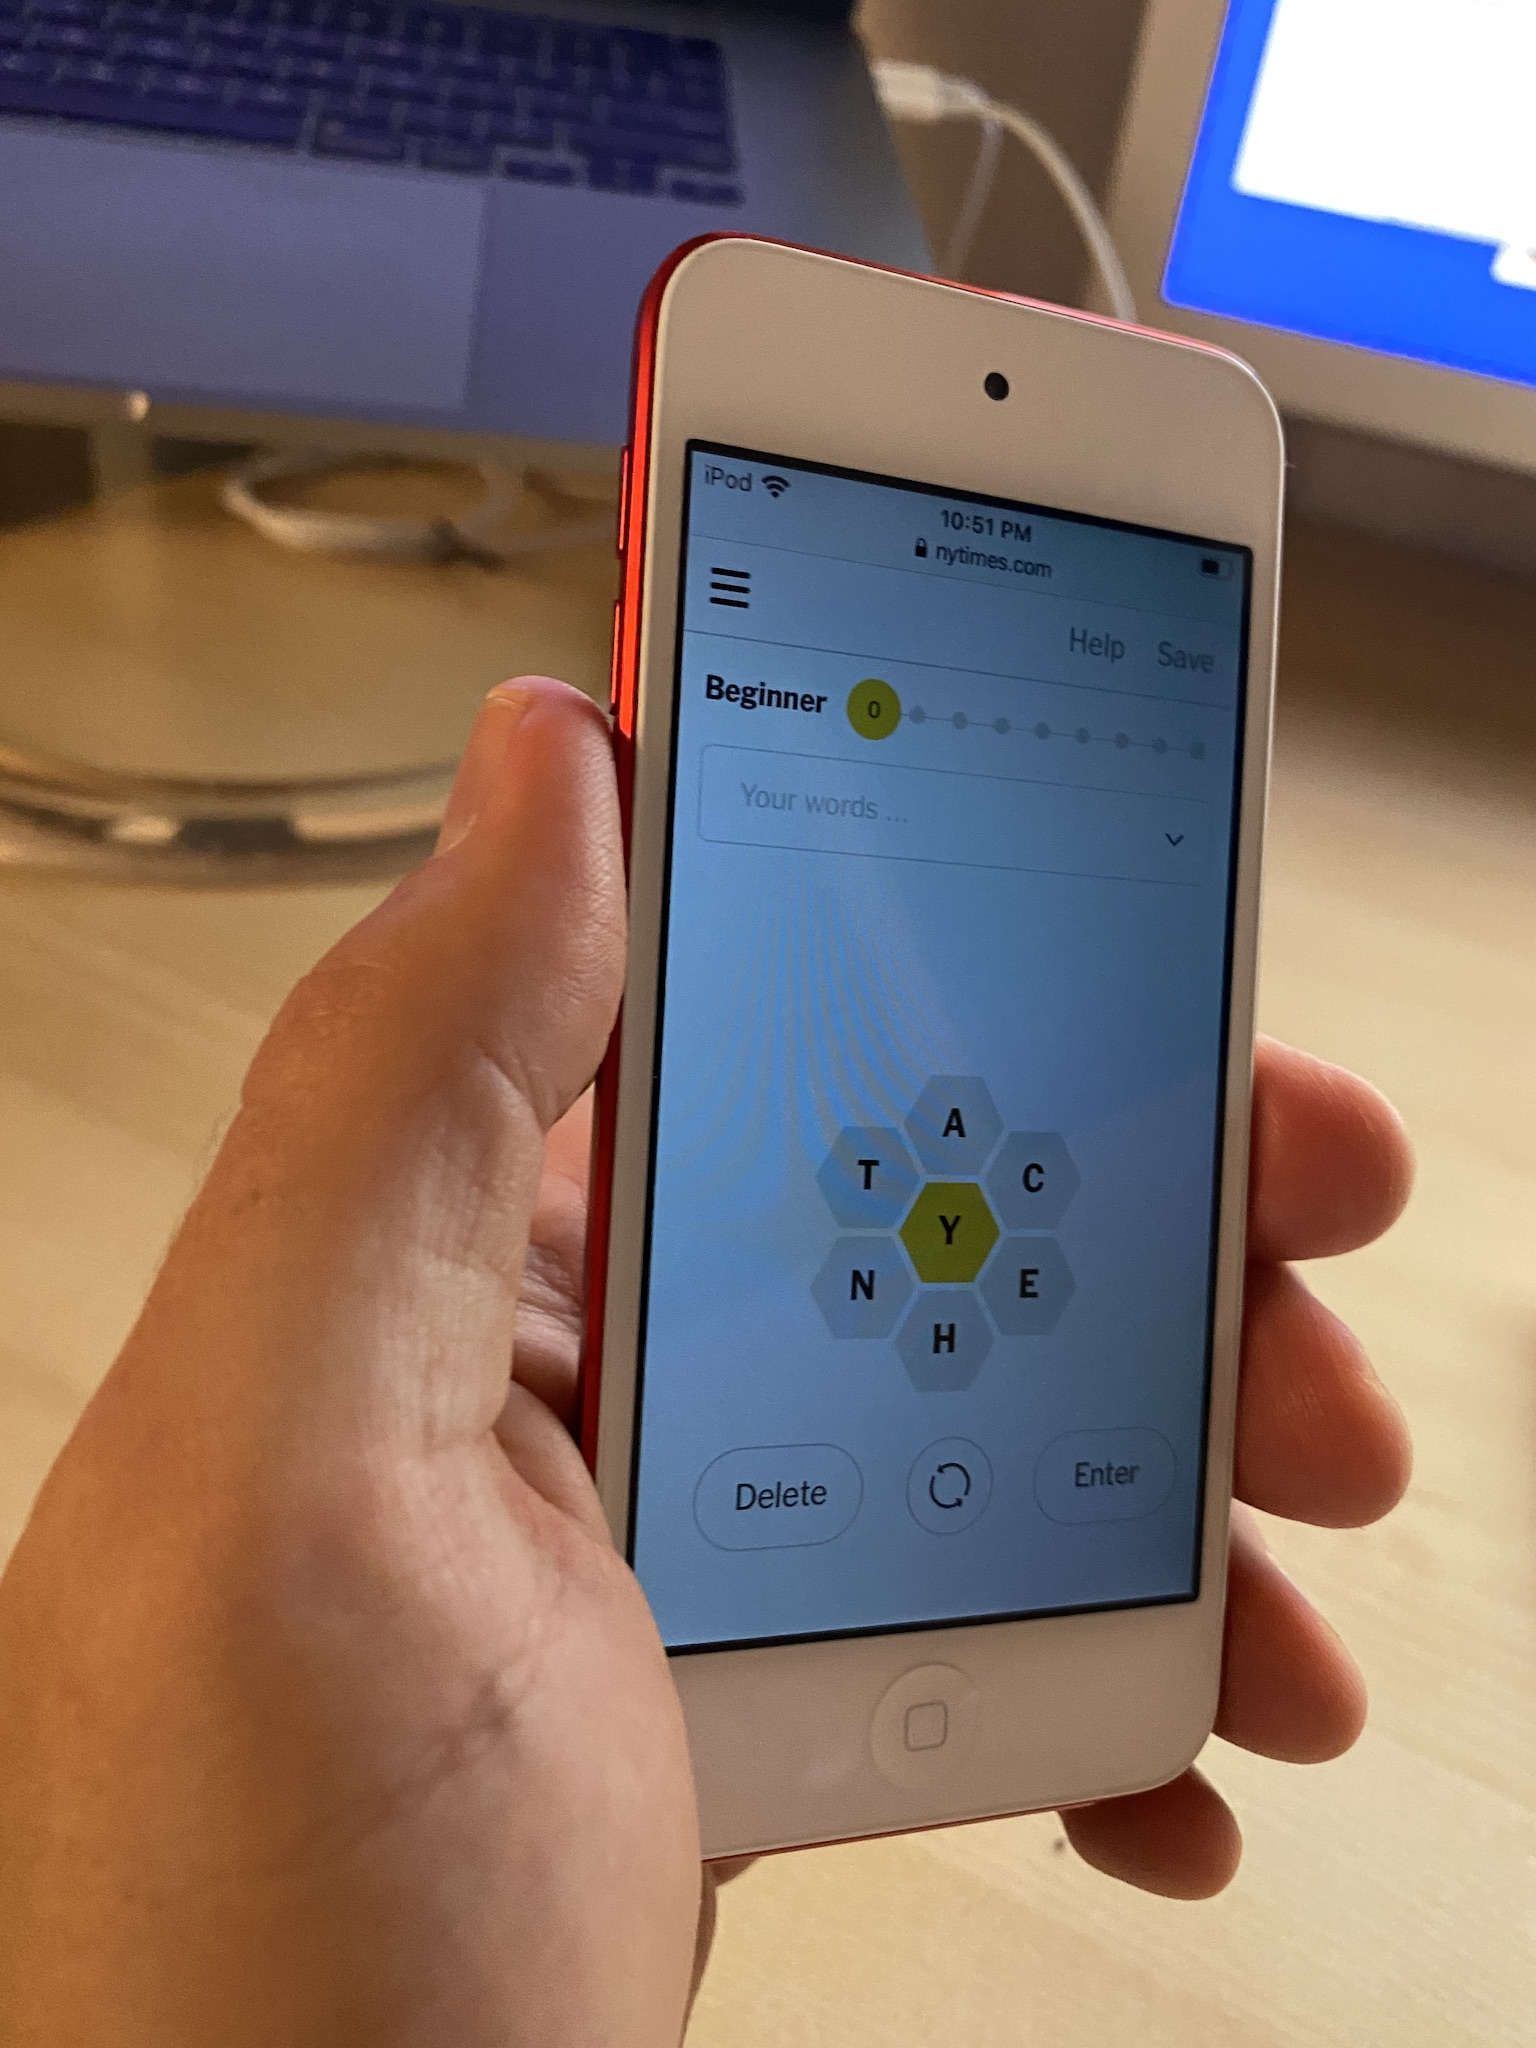Board: (802, 1047, 1102, 1413)
